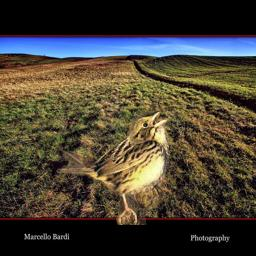Sparrow: (57, 109, 169, 225)
